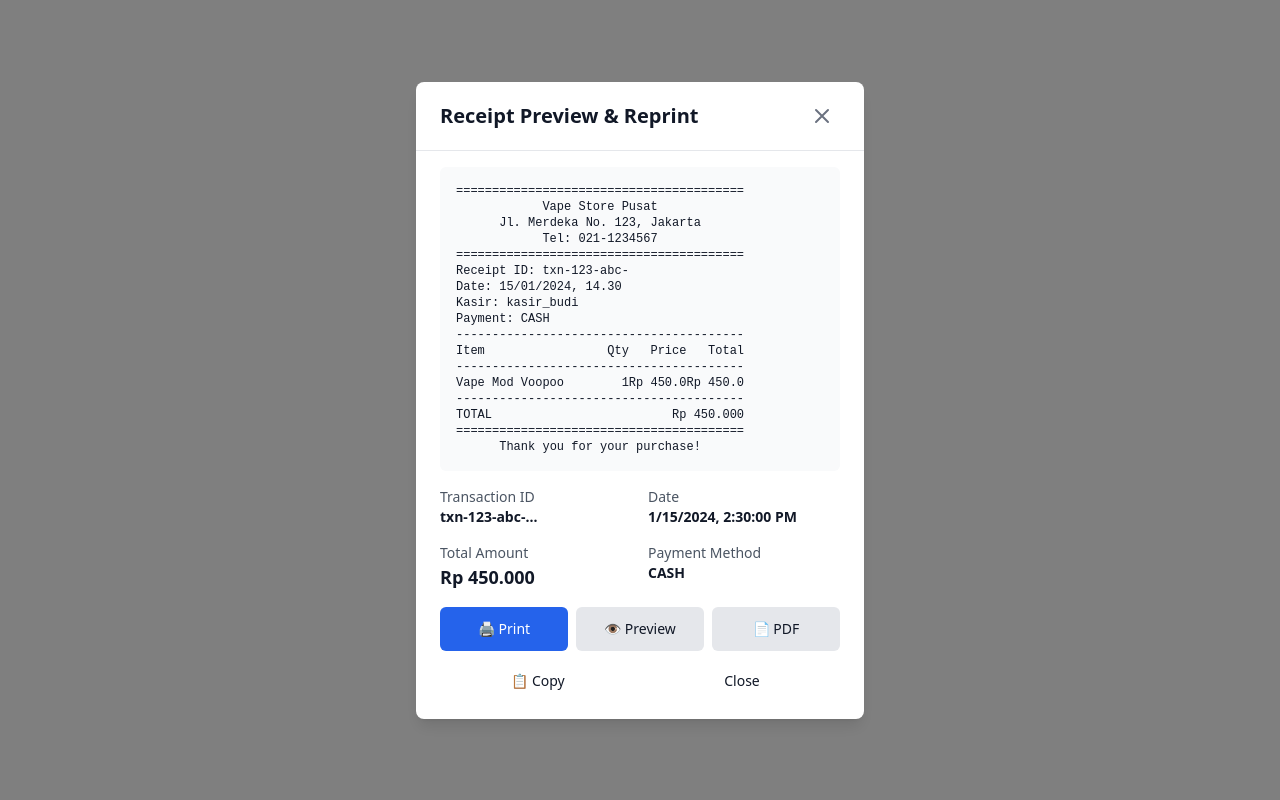
ReceiptReprintModal Component › Clipboard Actions › should show success message after copying
This screenshot has width=1280, height=800.
Click the button "📋 Copy".
click(538, 680)  # box [440,658,636,702]
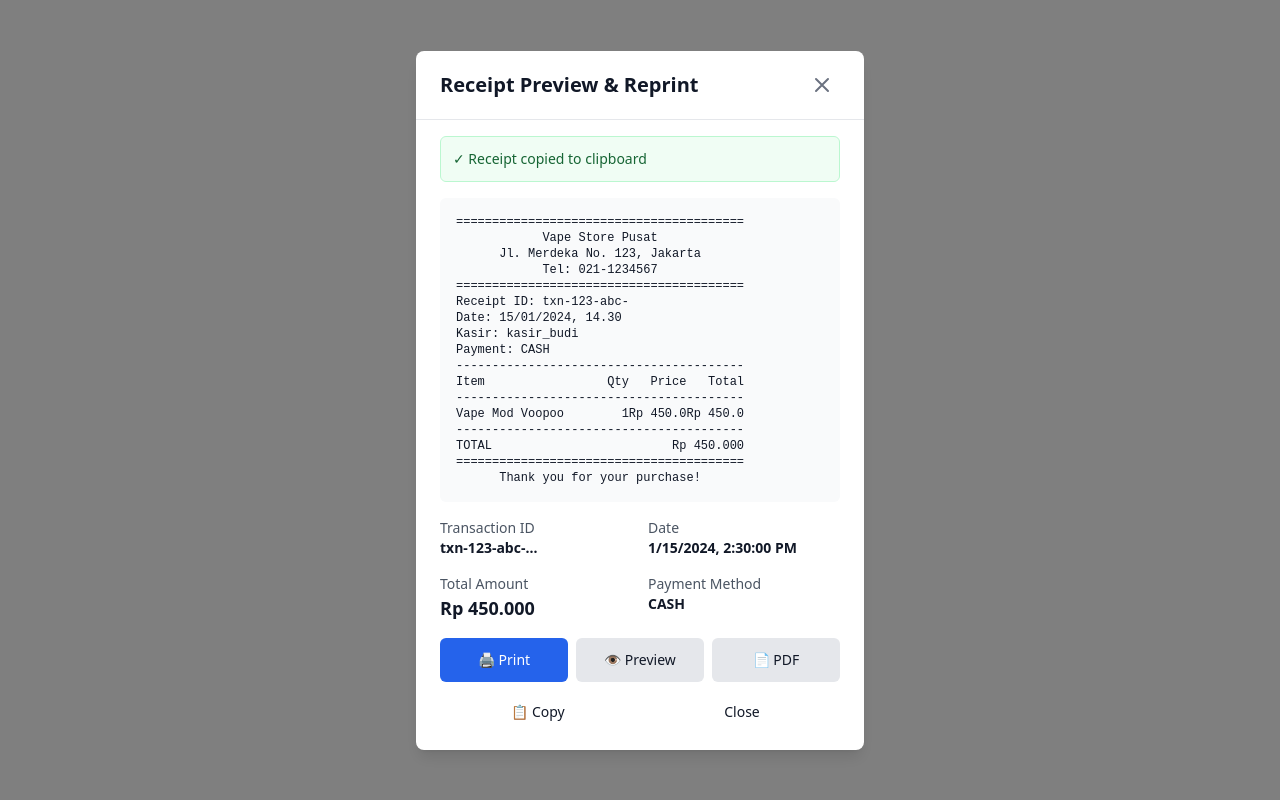
Now the text "✓ Receipt copied to clipboard" is shown, box [453,148,647,168]
